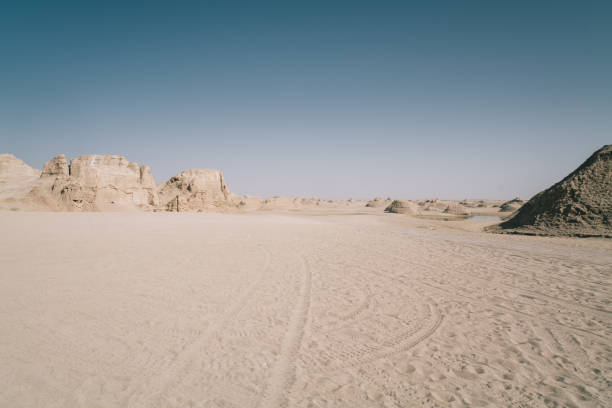vehicle_track: (129, 245, 271, 406), (258, 257, 311, 407)
